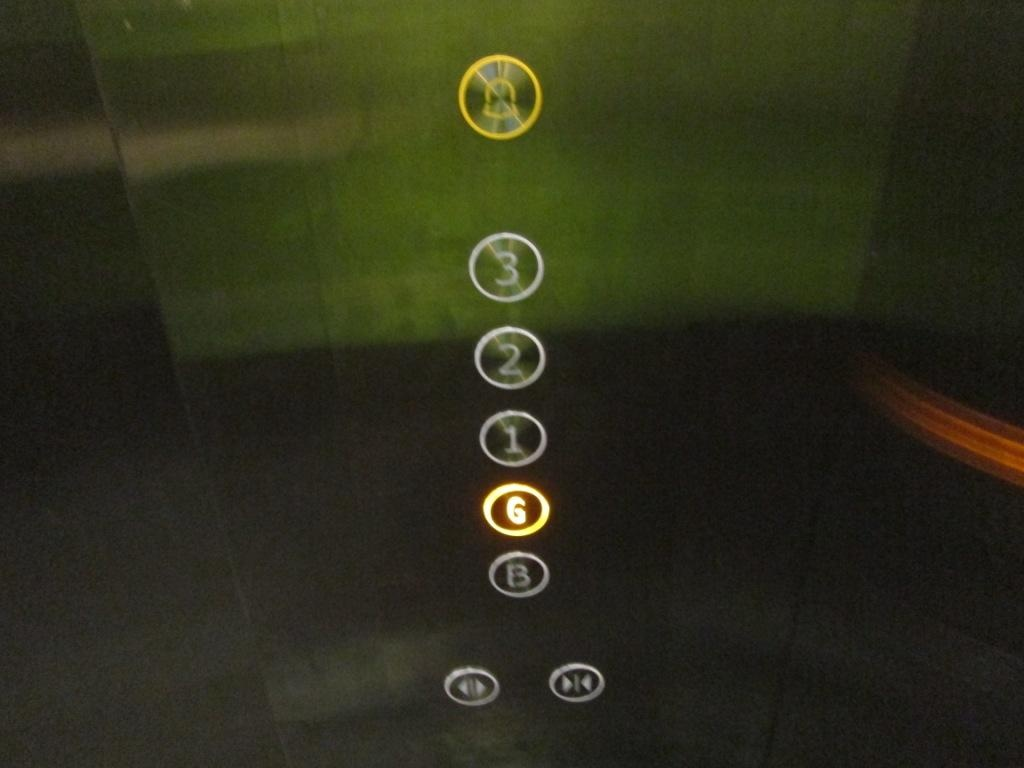1: (479, 408, 550, 471)
2: (472, 320, 549, 393)
3: (468, 229, 547, 308)
B: (486, 549, 552, 602)
G: (480, 481, 552, 541)
alarm: (456, 52, 546, 144)
close: (546, 662, 607, 705)
open: (437, 664, 503, 711)
